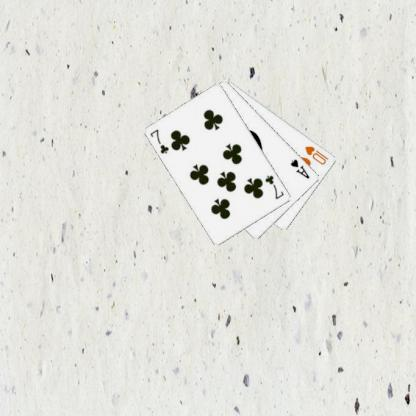10H: (302, 143, 330, 166)
7C: (147, 126, 170, 156), (262, 172, 286, 200)
AS: (288, 156, 311, 180)
